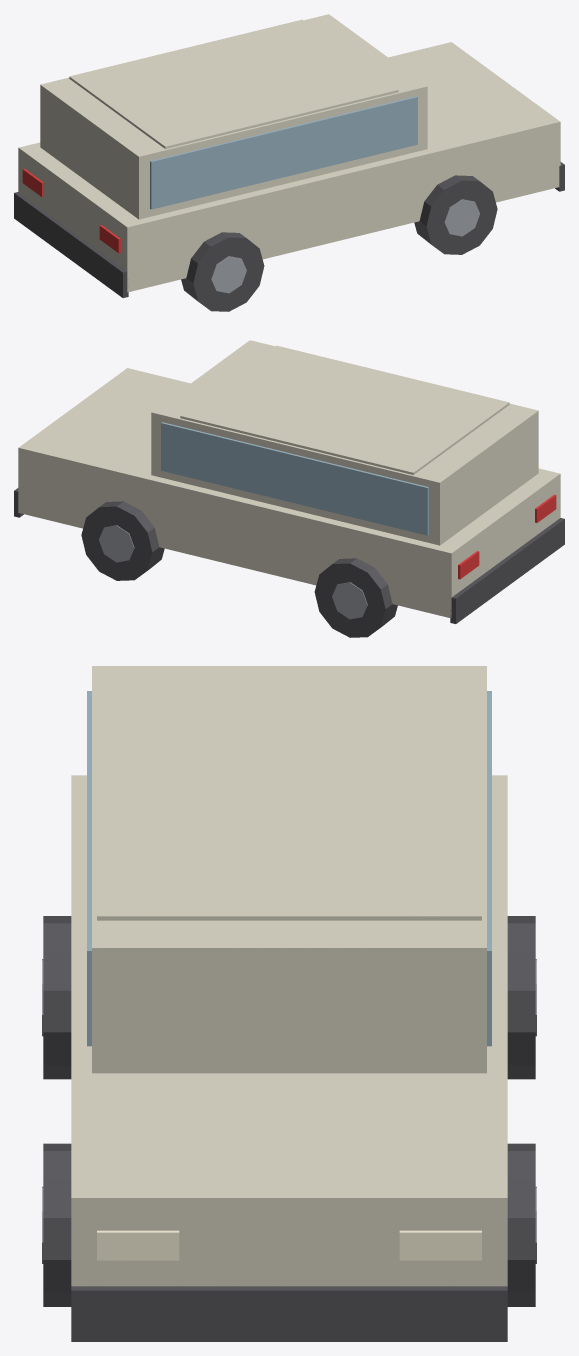
Rendered from dm_carhatch.glb.
3 renders of one model, top to bottom at view 1: azimuth 30°, elevation 25°; view 2: azimuth 150°, elevation 25°; view 3: azimuth 270°, elevation 25°, orthographic. The views are drawn at different scales.
Parts seen in each view (by area): view 1: carhatch; view 2: carhatch; view 3: carhatch.
Part boxes in pixels (<box>): carhatch: <box>14,14,564,311</box>; carhatch: <box>14,340,564,637</box>; carhatch: <box>42,666,536,1341</box>.
Bounding box in the file's own units: 3.98 × 1.44 × 1.93.
